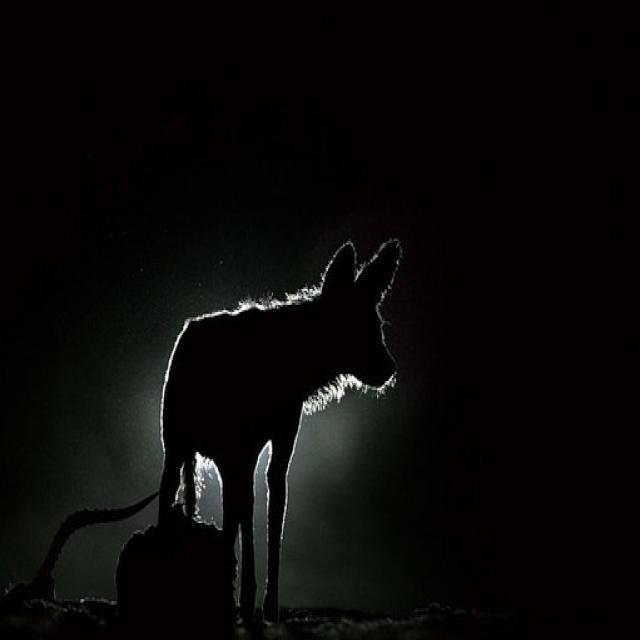Dog: (154, 220, 458, 611)
